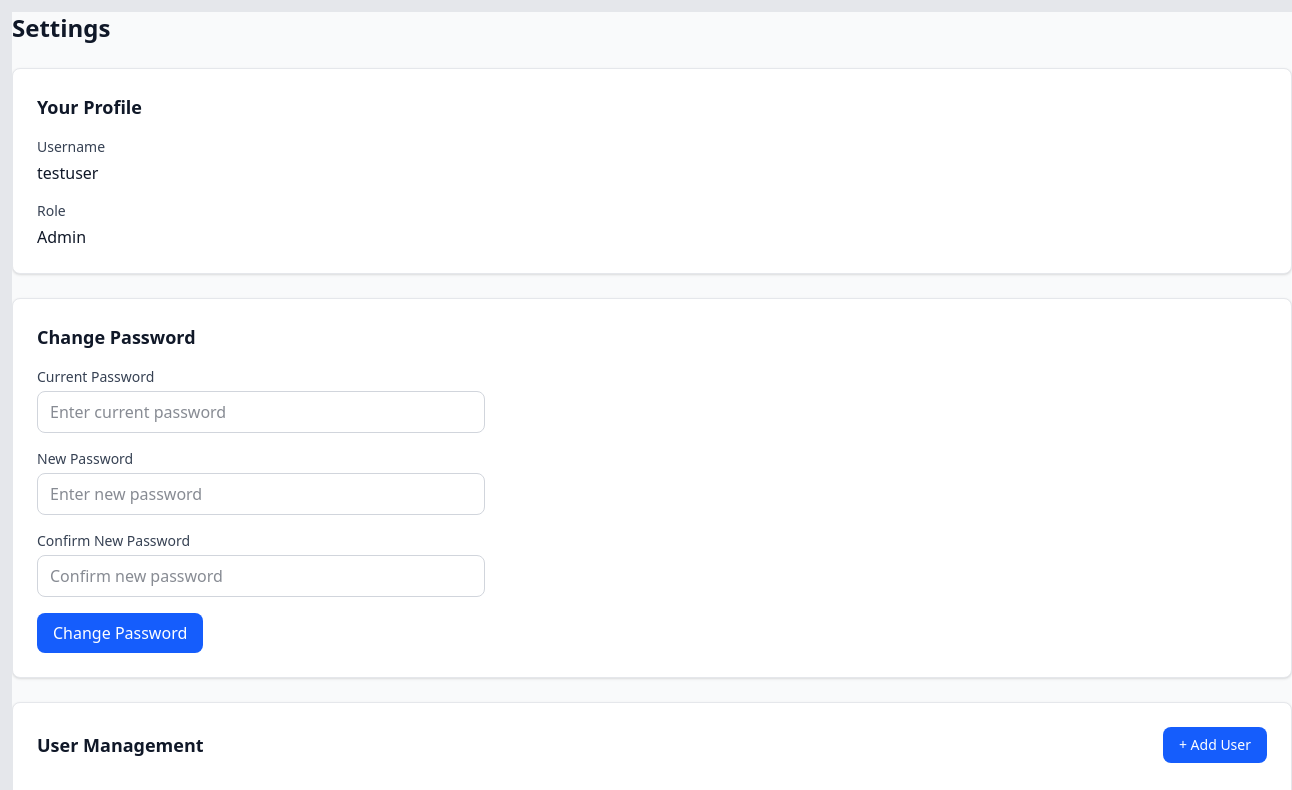
Test: SettingsPage › Change Password › shows error message when API returns error
In the password field with placeholder "Enter current password": x=261, y=412 [37, 391, 485, 433], type "wrongpass"
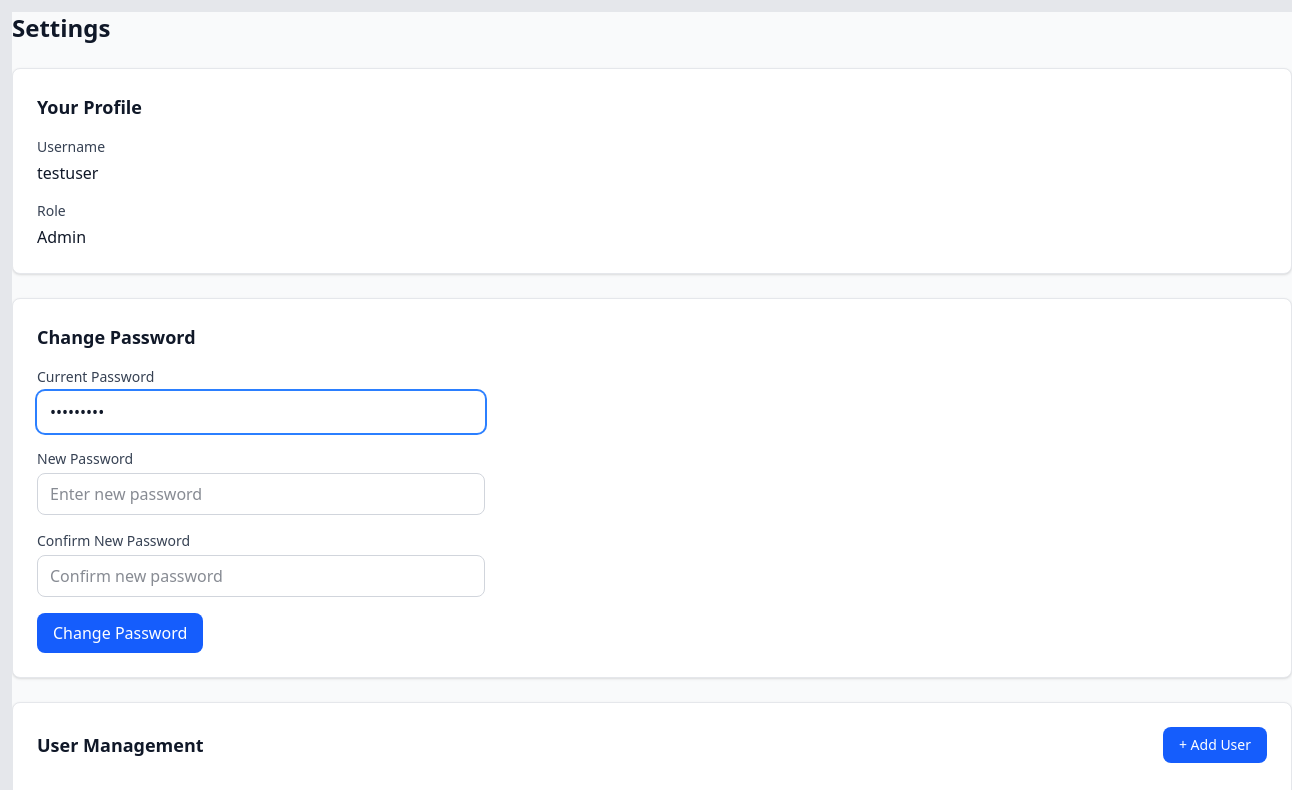
In the password field with placeholder "Enter new password": x=261, y=494 [37, 473, 485, 515], type "newpass123"
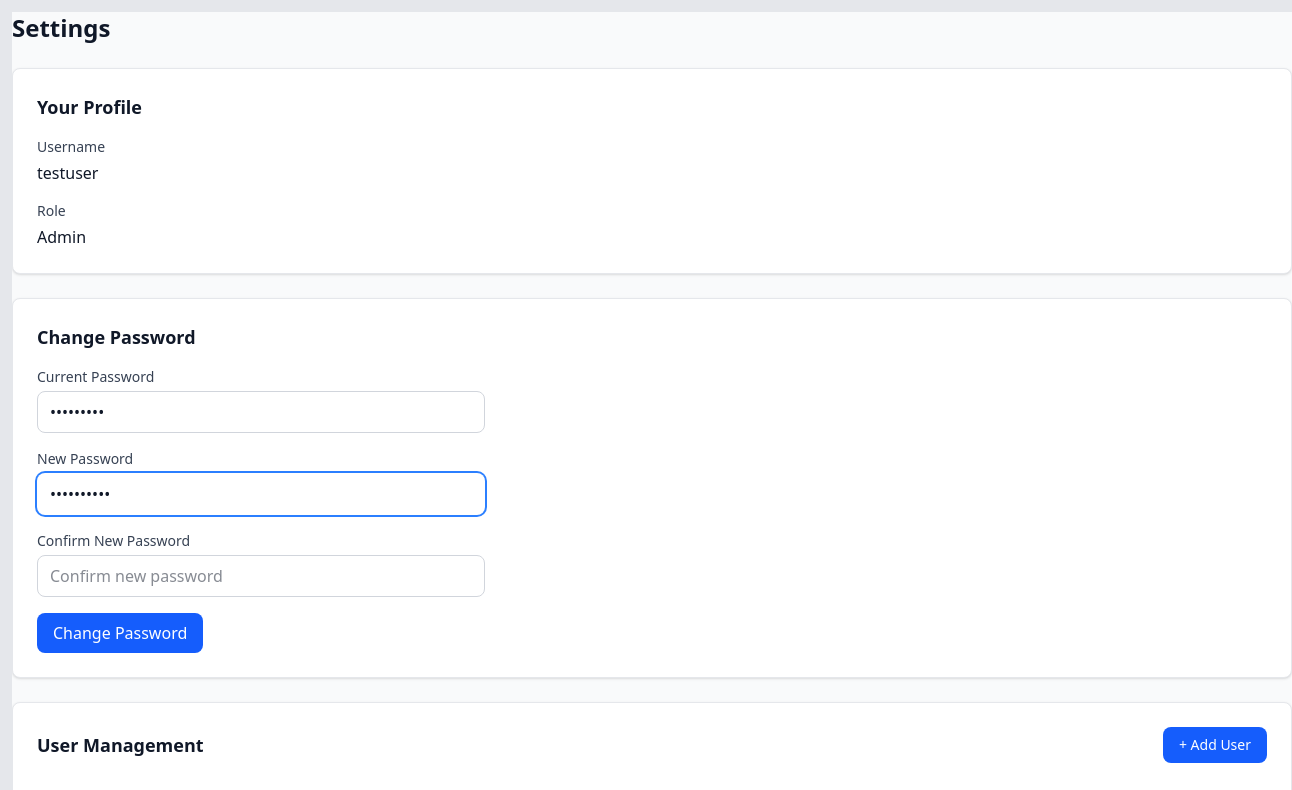
In the password field with placeholder "Confirm new password": x=261, y=576 [37, 555, 485, 597], type "newpass123"
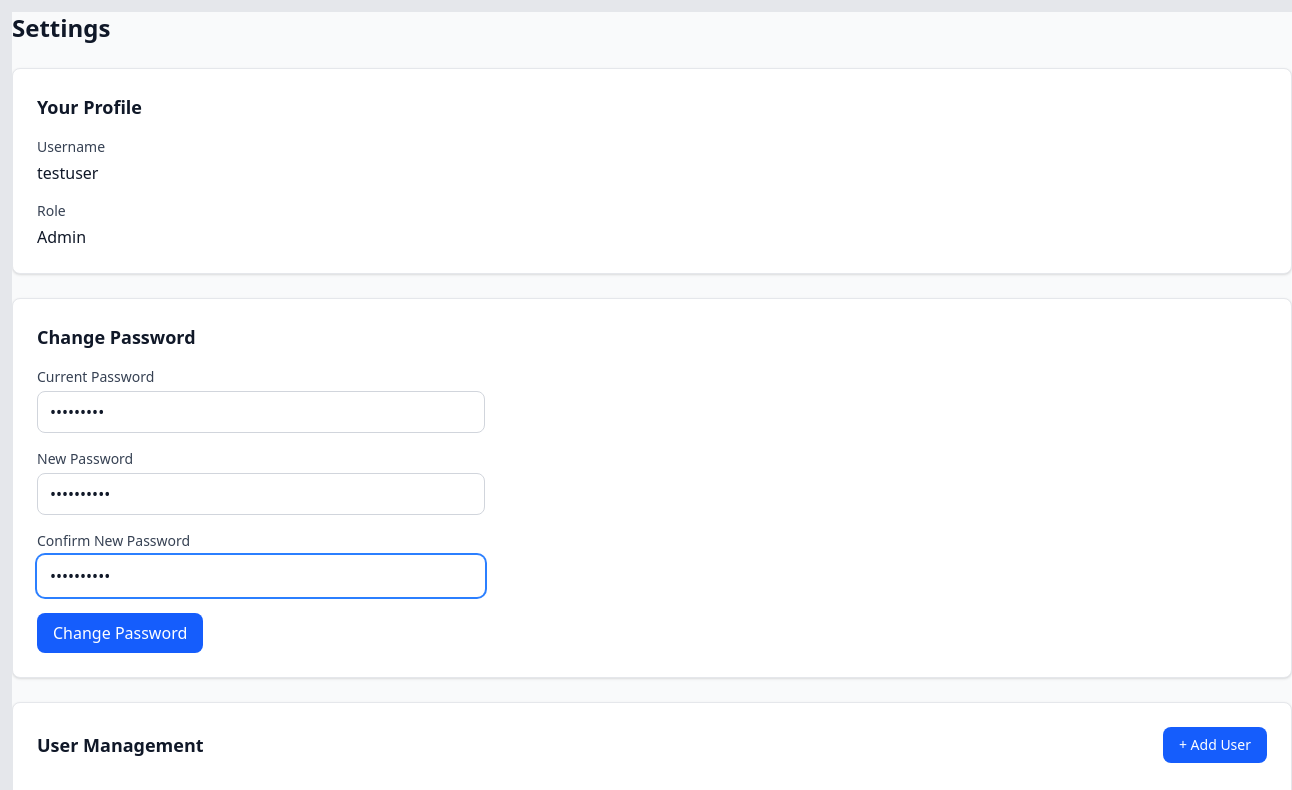
Click the button "Change Password": x=120, y=633 [37, 613, 203, 653]
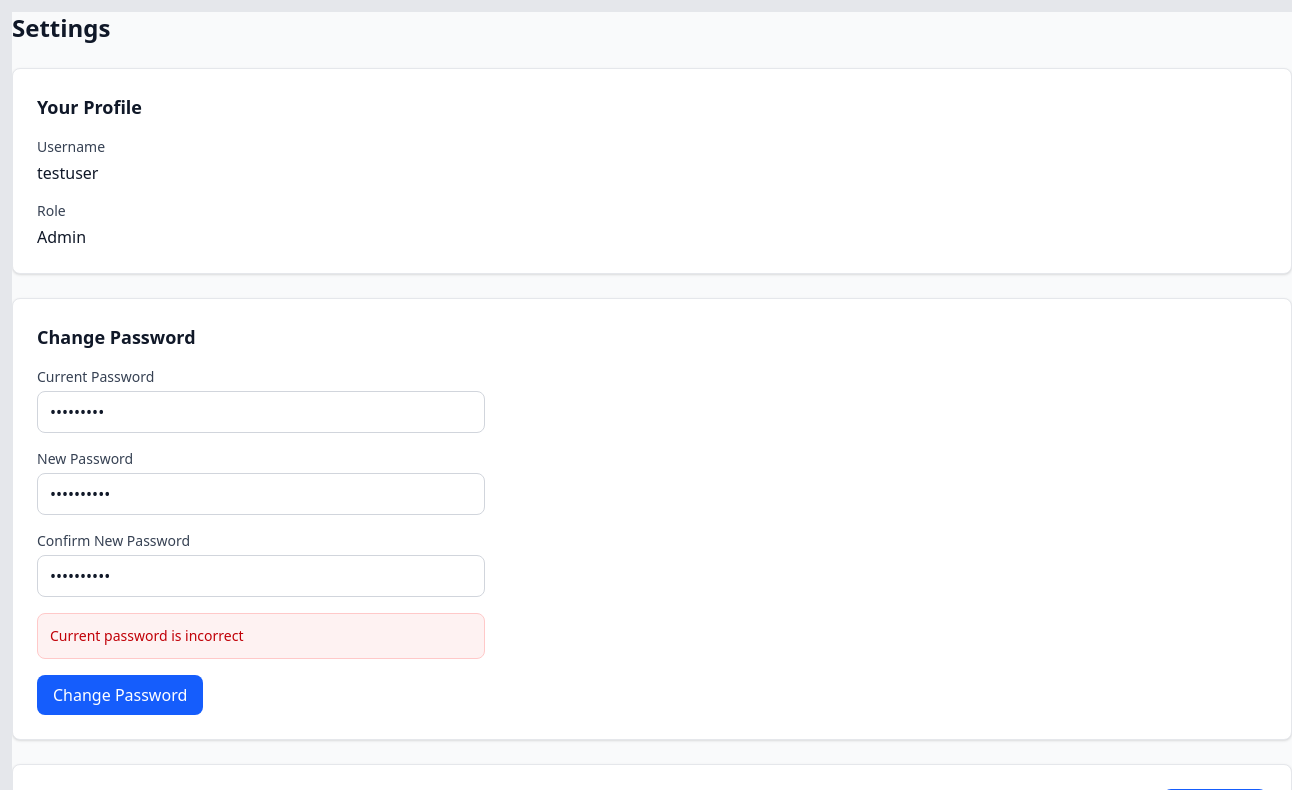
Check: the text "Current password is incorrect" is shown, box [37, 613, 485, 659]
